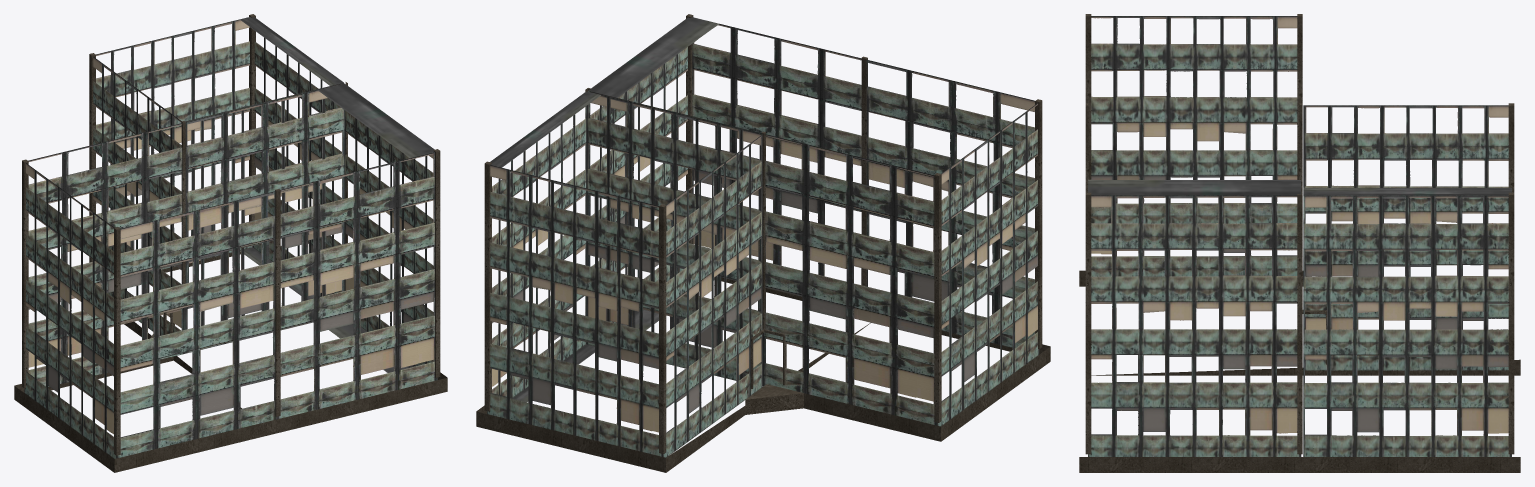
Rendered from BagSS09base_0.fbx.
The picture shows the model from 3 angles, left to right: view 1: azimuth 30°, elevation 25°; view 2: azimuth 150°, elevation 25°; view 3: azimuth 270°, elevation 25°; orthographic projection. The views are drawn at different scales.
Visible parts, largest first — view 1: baseBox0, baseCrete0; view 2: baseBox0, baseCrete0; view 3: baseBox0, baseCrete0.
Boxes of the visible parts, x1,y1,x2,y2 form: baseBox0: (24,17,437,458); baseCrete0: (14,14,447,472); baseBox0: (487,17,1039,457); baseCrete0: (476,14,1050,472); baseBox0: (1088,16,1511,456); baseCrete0: (1079,14,1520,472).
Bounding box in the file's own units: 42.12 × 28.99 × 42.12.
